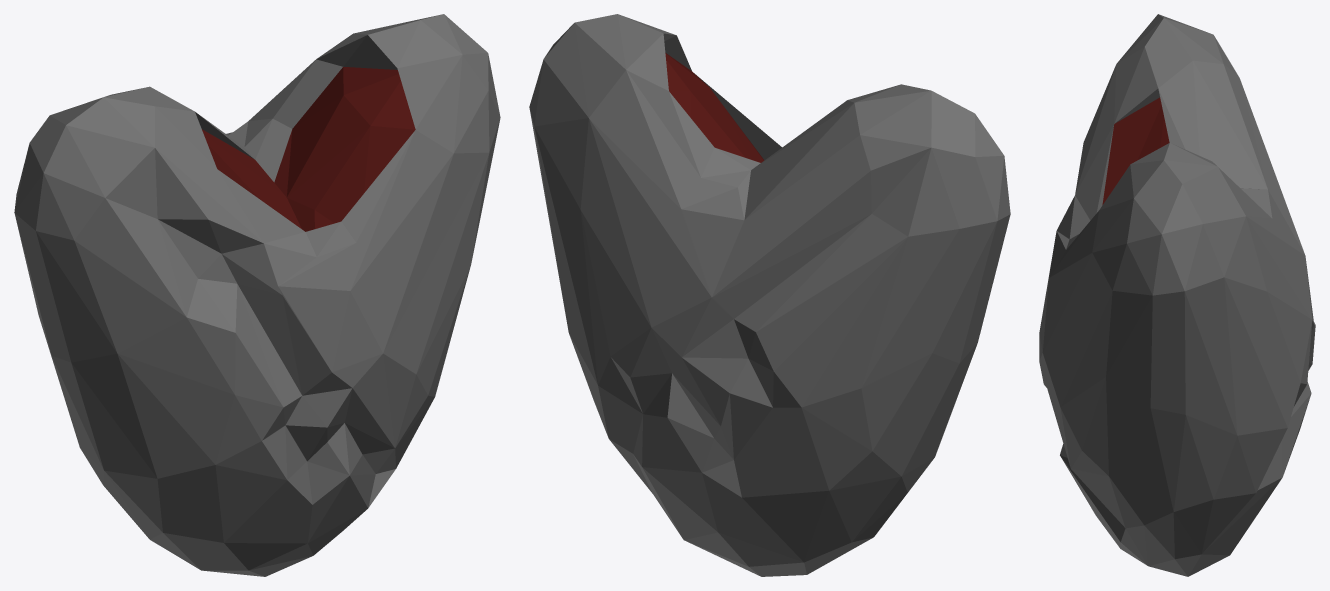
The model's file is stone_heart.fbx.
The picture shows the model from 3 angles, left to right: view 1: azimuth 30°, elevation 25°; view 2: azimuth 150°, elevation 25°; view 3: azimuth 270°, elevation 25°; orthographic projection. The views are drawn at different scales.
Parts seen in each view (by area): view 1: Icosphere; view 2: Icosphere; view 3: Icosphere.
Boxes of the visible parts, box(x1,y1,x2,y2) form: Icosphere: box(14, 14, 500, 576); Icosphere: box(529, 14, 1010, 576); Icosphere: box(1039, 14, 1315, 576).
Size of the model in its own units: 225 by 236 by 124.
